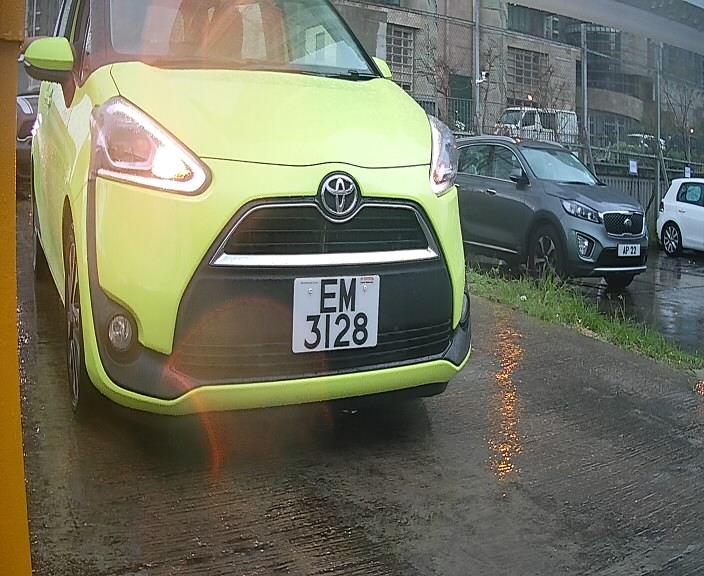Car: (12, 11, 514, 471)
License Plate: (287, 268, 390, 366)
